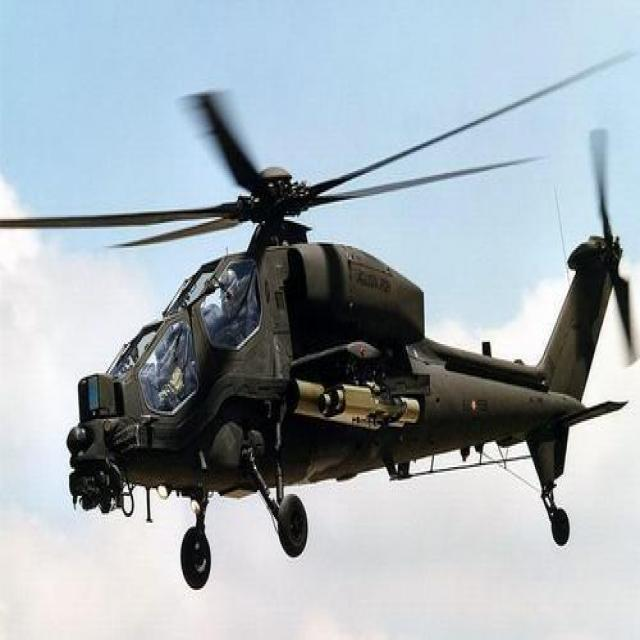MIL_HELO: (15, 55, 626, 604)
